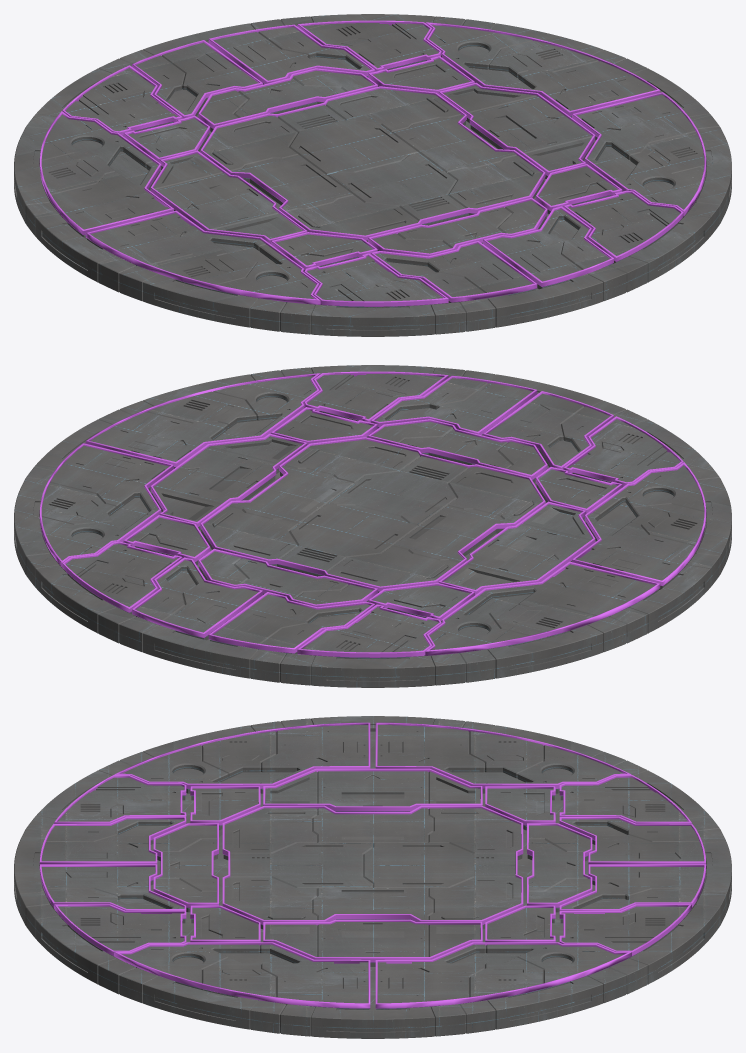
The model's file is platform.glb.
3 renders of one model, top to bottom at view 1: azimuth 30°, elevation 25°; view 2: azimuth 150°, elevation 25°; view 3: azimuth 270°, elevation 25°, orthographic.
Parts seen in each view (by area): view 1: G_01, G_05, G_02; view 2: G_01, G_05, G_02; view 3: G_01, G_05, G_02, G_03.
Boxes of the visible parts, x1,y1,x2,y2 form: G_01: (41, 23, 704, 307); G_05: (14, 14, 731, 336); G_02: (39, 20, 706, 306); G_01: (41, 374, 704, 658); G_05: (14, 365, 731, 687); G_02: (39, 371, 706, 657); G_01: (41, 725, 704, 1009); G_05: (14, 716, 731, 1038); G_02: (39, 722, 706, 1008); G_03: (39, 731, 706, 1009).
Size of the model in its own units: 2.11 by 0.0782 by 2.11.
2 materials, 1 textured.
